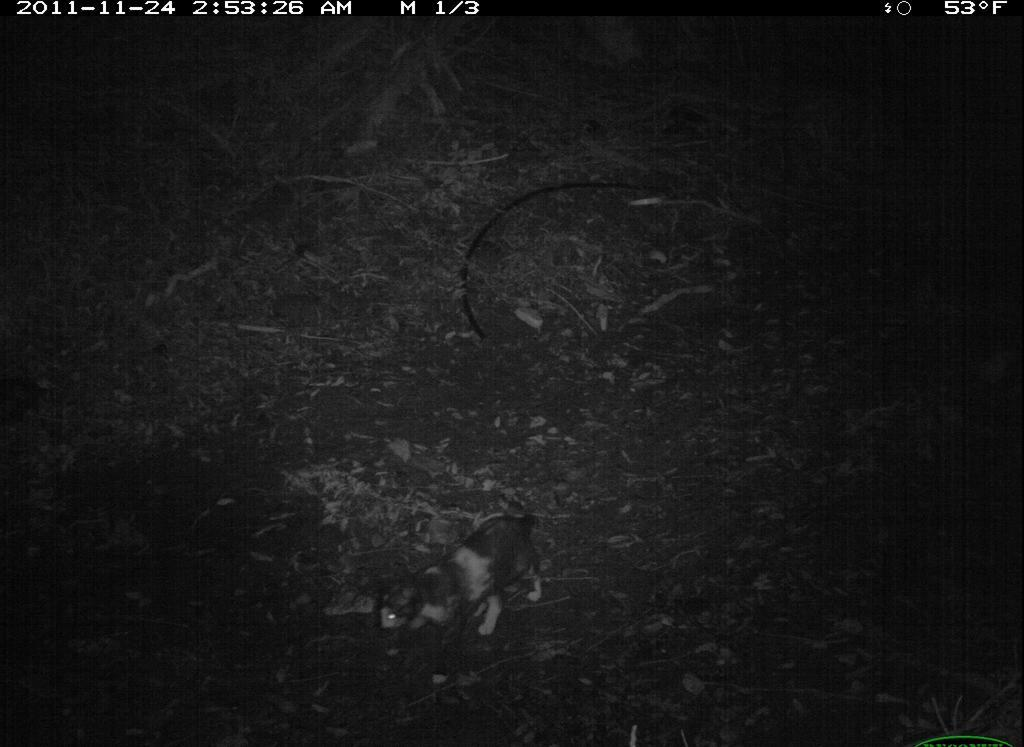cat: (374, 500, 553, 649)
